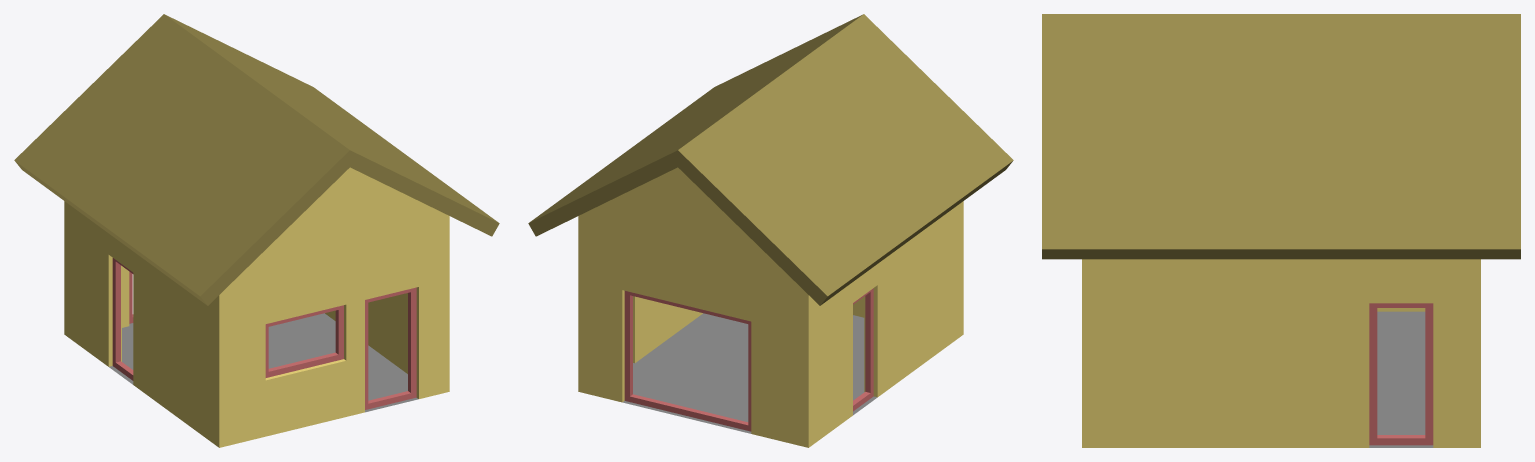
File: result.glb
3 views of the same model, side by side, from view 1: azimuth 30°, elevation 25°; view 2: azimuth 150°, elevation 25°; view 3: azimuth 270°, elevation 25° (orthographic). The views are drawn at different scales.
Parts seen in each view (by area): view 1: e8ae3dcf-4657-4968-9fc3-90a4c1611dd5__undefined (×2), 596cf7f4-cafc-4a10-97f2-bd909c3ffbf1__undefined, 5fc282c5-c9b3-46e5-85b2-e5ba8562f523__Plane_6, 61e952d3-7a57-4ed1-a4c4-a0e8491876b4__Box, 5e31309a-e300-44d8-b59f-587c24ff2a04__Box_3, 1fb2c1ea-c175-48df-8459-25cc28c1e7eb__Box_12; view 2: e8ae3dcf-4657-4968-9fc3-90a4c1611dd5__undefined (×2), 596cf7f4-cafc-4a10-97f2-bd909c3ffbf1__undefined, 5fc282c5-c9b3-46e5-85b2-e5ba8562f523__Plane_6, b3d8c63a-9403-454a-ab2d-7c3e192f0752__Box_9, 1fb2c1ea-c175-48df-8459-25cc28c1e7eb__Box_12; view 3: e8ae3dcf-4657-4968-9fc3-90a4c1611dd5__undefined, 596cf7f4-cafc-4a10-97f2-bd909c3ffbf1__undefined, 5fc282c5-c9b3-46e5-85b2-e5ba8562f523__Plane_6, 3b416151-03bd-4272-82d3-9113080971cd__Box_15.
Part boxes in pixels (x1,y1,x2,y2): e8ae3dcf-4657-4968-9fc3-90a4c1611dd5__undefined (×2): (14,14,499,305); 596cf7f4-cafc-4a10-97f2-bd909c3ffbf1__undefined: (64,167,449,447); 5fc282c5-c9b3-46e5-85b2-e5ba8562f523__Plane_6: (109,313,418,412); 61e952d3-7a57-4ed1-a4c4-a0e8491876b4__Box: (365,287,416,409); 5e31309a-e300-44d8-b59f-587c24ff2a04__Box_3: (265,305,343,377); 1fb2c1ea-c175-48df-8459-25cc28c1e7eb__Box_12: (112,258,133,380); e8ae3dcf-4657-4968-9fc3-90a4c1611dd5__undefined (×2): (528,14,1013,305); 596cf7f4-cafc-4a10-97f2-bd909c3ffbf1__undefined: (578,167,963,447); 5fc282c5-c9b3-46e5-85b2-e5ba8562f523__Plane_6: (622,313,877,433); b3d8c63a-9403-454a-ab2d-7c3e192f0752__Box_9: (624,291,751,431); 1fb2c1ea-c175-48df-8459-25cc28c1e7eb__Box_12: (853,288,873,411); e8ae3dcf-4657-4968-9fc3-90a4c1611dd5__undefined: (1042,14,1520,259); 596cf7f4-cafc-4a10-97f2-bd909c3ffbf1__undefined: (1082,259,1480,447); 5fc282c5-c9b3-46e5-85b2-e5ba8562f523__Plane_6: (1369,311,1433,447); 3b416151-03bd-4272-82d3-9113080971cd__Box_15: (1369,303,1433,445).
Bounding box in the file's own units: 558 × 500 × 600.
